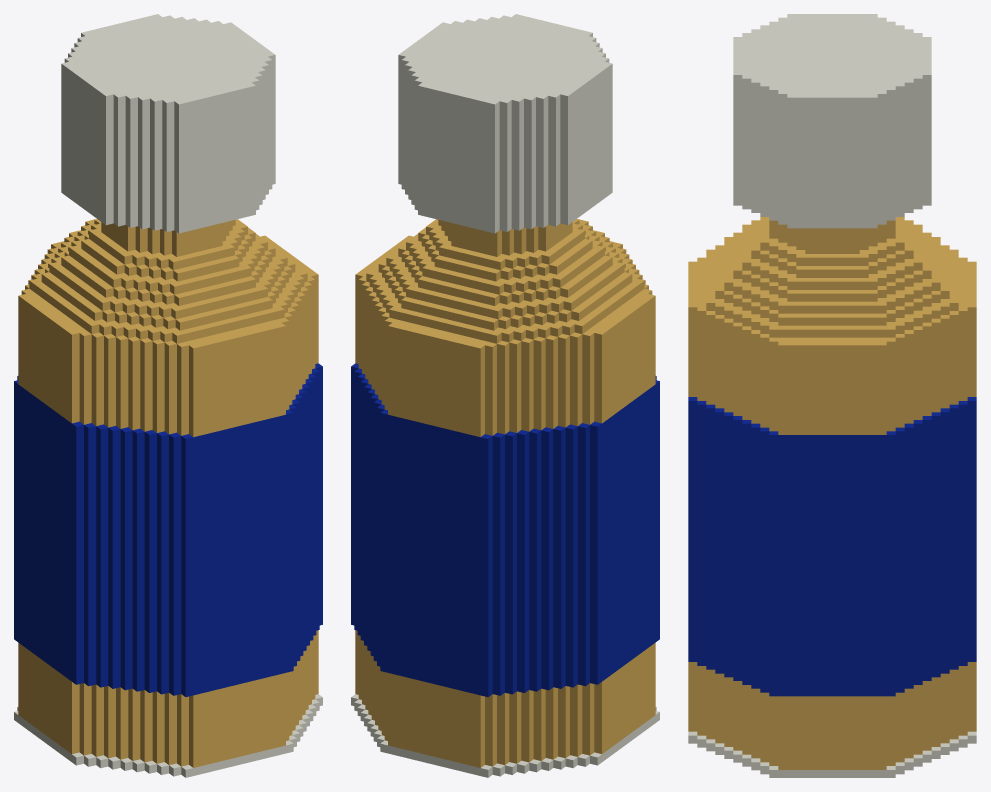
The model's file is cough_syrup.glb.
The picture shows the model from 3 angles, left to right: view 1: azimuth 30°, elevation 25°; view 2: azimuth 150°, elevation 25°; view 3: azimuth 270°, elevation 25°; orthographic projection.
Parts seen in each view (by area): view 1: cough_syrup:vessel; view 2: cough_syrup:vessel; view 3: cough_syrup:vessel.
Boxes of the visible parts, x1,y1,x2,y2 form: cough_syrup:vessel: [14, 14, 322, 777]; cough_syrup:vessel: [351, 14, 659, 777]; cough_syrup:vessel: [688, 14, 976, 777].
Bounding box in the file's own units: 0.064 × 0.162 × 0.064.
